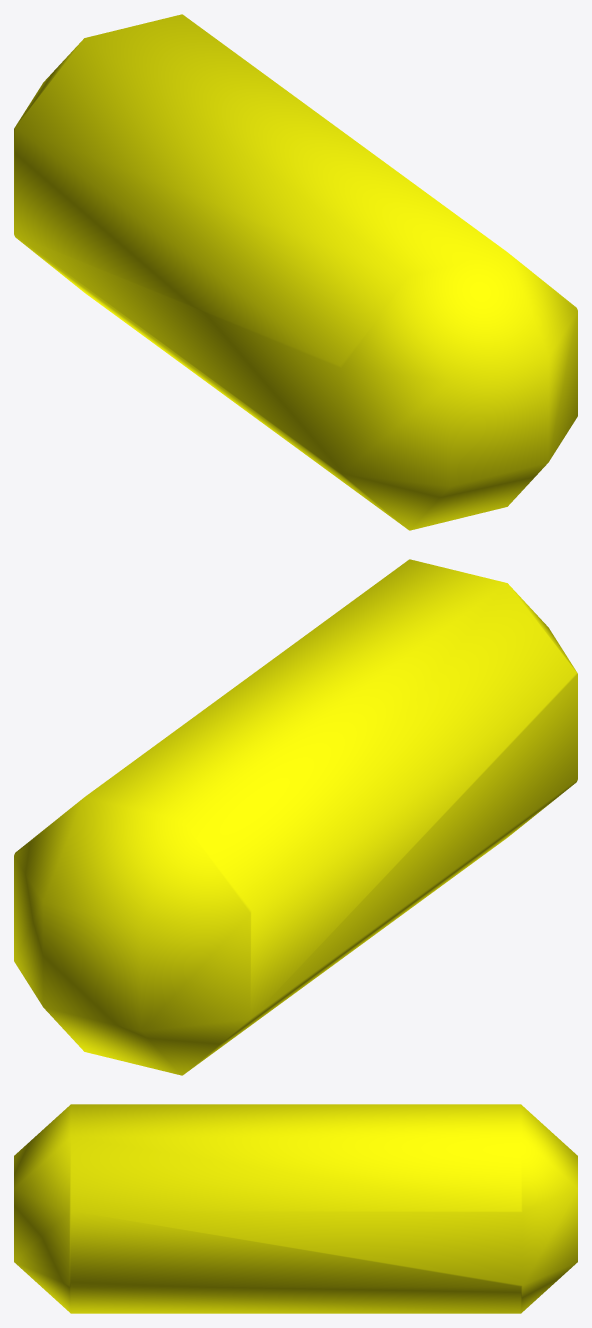
File: arm_half_1.bbox.gltf
3 renders of one model, top to bottom at view 1: azimuth 30°, elevation 25°; view 2: azimuth 150°, elevation 25°; view 3: azimuth 270°, elevation 25°, orthographic. The views are drawn at different scales.
Parts seen in each view (by area): view 1: arm_half_1.bbox; view 2: arm_half_1.bbox; view 3: arm_half_1.bbox.
Part boxes in pixels (x1,y1,x2,y2): arm_half_1.bbox: [14, 14, 577, 530]; arm_half_1.bbox: [14, 559, 577, 1075]; arm_half_1.bbox: [14, 1104, 577, 1313].
Size of the model in its own units: 0.0825 by 0.0849 by 0.2461.
